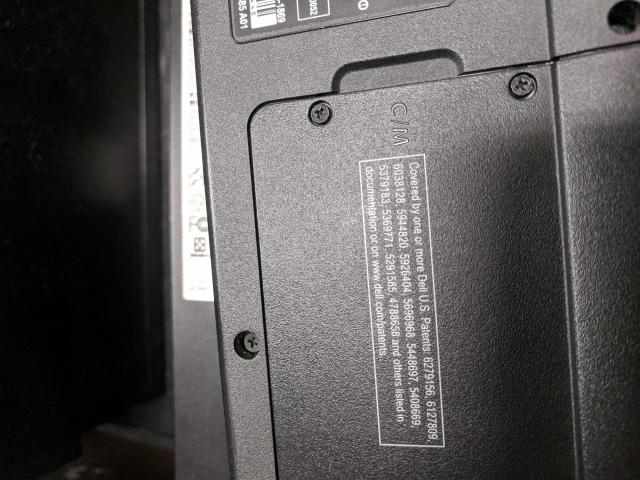CRS: (510, 72, 536, 100), (309, 98, 332, 126), (240, 331, 264, 354)
